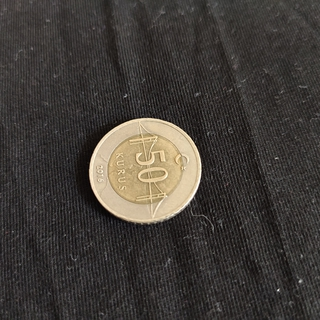50KURUS: (86, 115, 203, 226)
